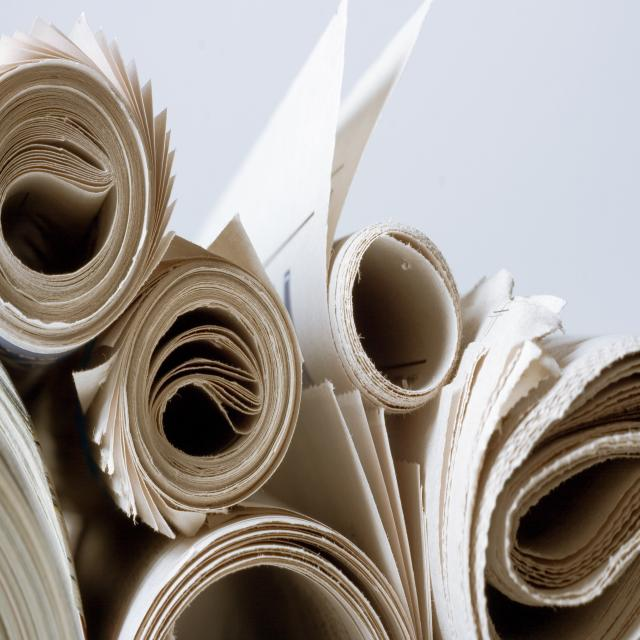paper: (48, 56, 290, 489), (358, 226, 582, 549)
